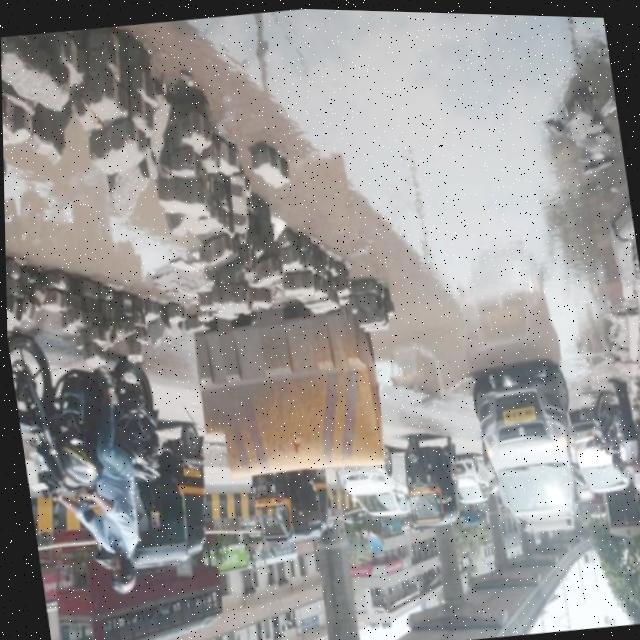Pothole: (348, 8, 640, 413)
